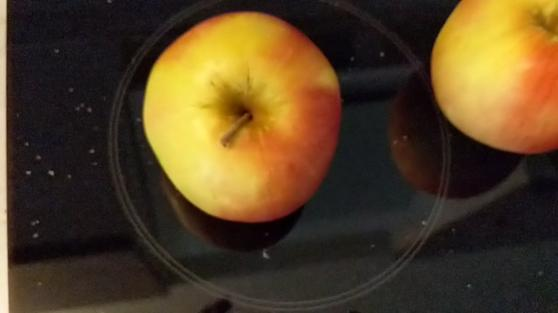apple: (142, 11, 348, 222), (430, 1, 558, 158)
